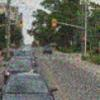cars: (4, 55, 38, 79)
